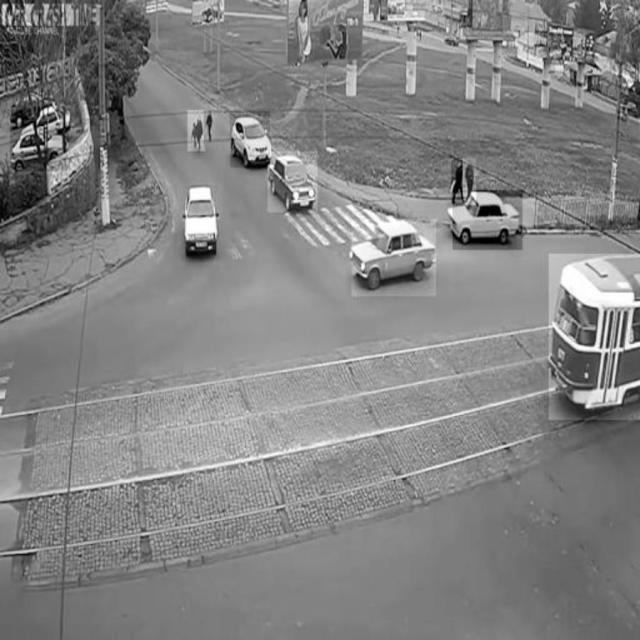person: (188, 111, 205, 152), (451, 158, 466, 204), (463, 158, 477, 205), (204, 101, 216, 146)
vehicle: (549, 254, 640, 420), (352, 219, 436, 296), (453, 189, 524, 250), (178, 183, 223, 265), (268, 152, 318, 213), (9, 122, 67, 172), (230, 112, 271, 168)
